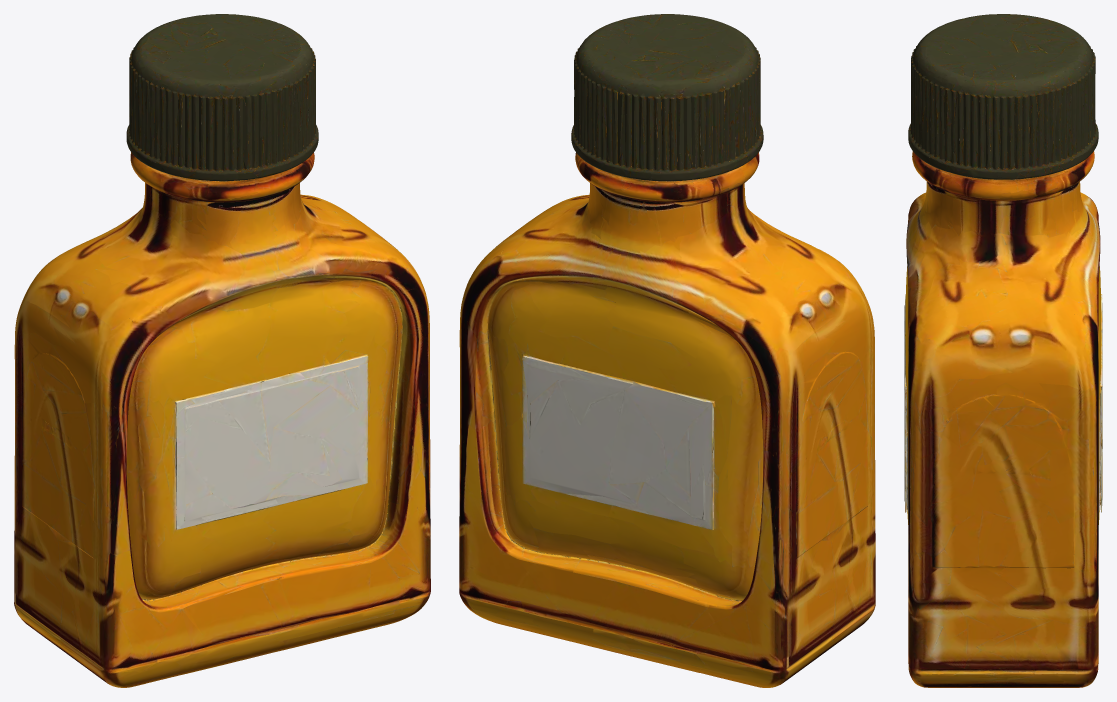
The model's file is hero-flacon.glb.
3 views of the same model, side by side, from view 1: azimuth 30°, elevation 25°; view 2: azimuth 150°, elevation 25°; view 3: azimuth 270°, elevation 25° (orthographic).
Bounding box in the file's own units: 1.14 × 1.9 × 0.5955.
Materials: 1 (1 with a texture image).
